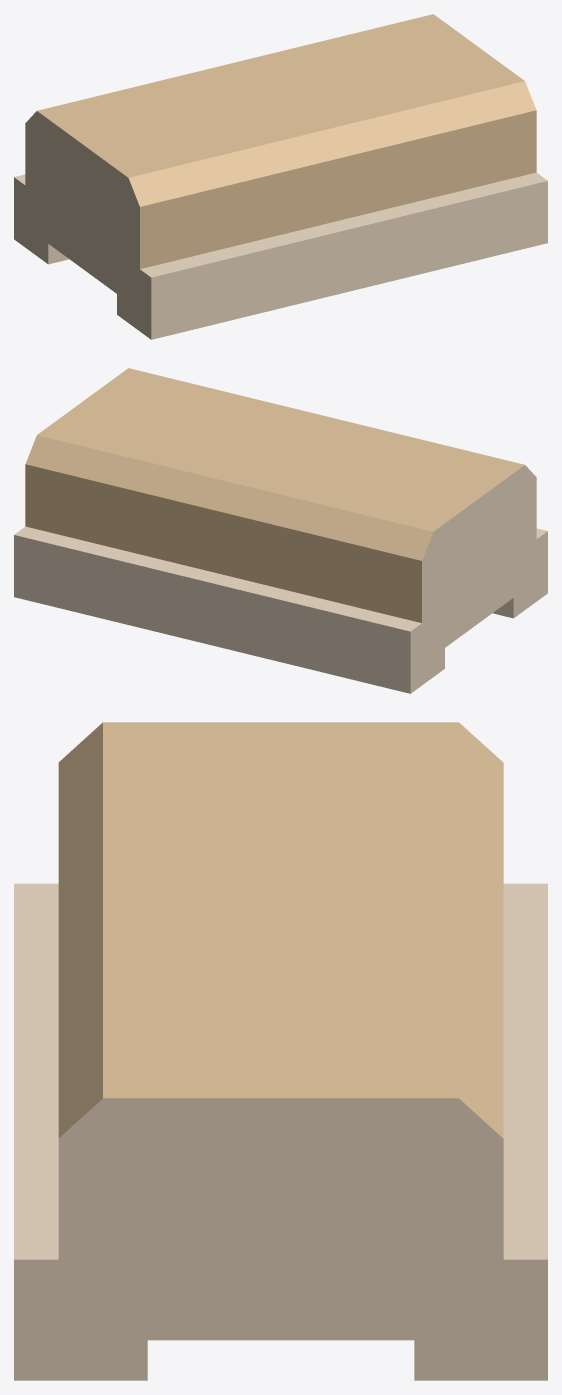
Rendered from Pillar_Large_Beam_Top.glb.
3 views of the same model, one above another, from view 1: azimuth 30°, elevation 25°; view 2: azimuth 150°, elevation 25°; view 3: azimuth 270°, elevation 25° (orthographic). The views are drawn at different scales.
Visible parts, largest first — view 1: Pillar_Large_Beam_Top; view 2: Pillar_Large_Beam_Top; view 3: Pillar_Large_Beam_Top.
Boxes of the visible parts, x1,y1,x2,y2 form: Pillar_Large_Beam_Top: (14,14,547,339); Pillar_Large_Beam_Top: (14,368,547,693); Pillar_Large_Beam_Top: (14,722,547,1380).
Bounding box in the file's own units: 1 × 0.35 × 0.6.
